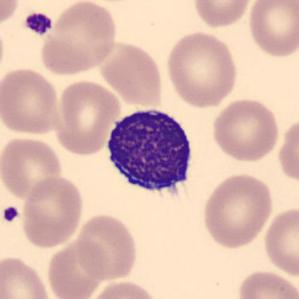Lymphocyte: (99, 102, 200, 206)
Platelets: (22, 10, 55, 36), (0, 204, 20, 224)
RBC: (36, 0, 119, 77), (164, 28, 240, 108), (200, 170, 275, 250), (54, 78, 122, 156), (18, 174, 86, 249), (209, 95, 282, 164), (98, 39, 166, 107), (74, 212, 140, 282), (0, 65, 62, 137), (0, 134, 64, 201), (44, 235, 110, 299), (245, 0, 299, 59), (262, 204, 298, 278), (0, 253, 55, 299), (235, 268, 298, 299), (190, 0, 255, 29), (276, 114, 298, 188), (84, 278, 161, 299), (0, 0, 21, 31)
